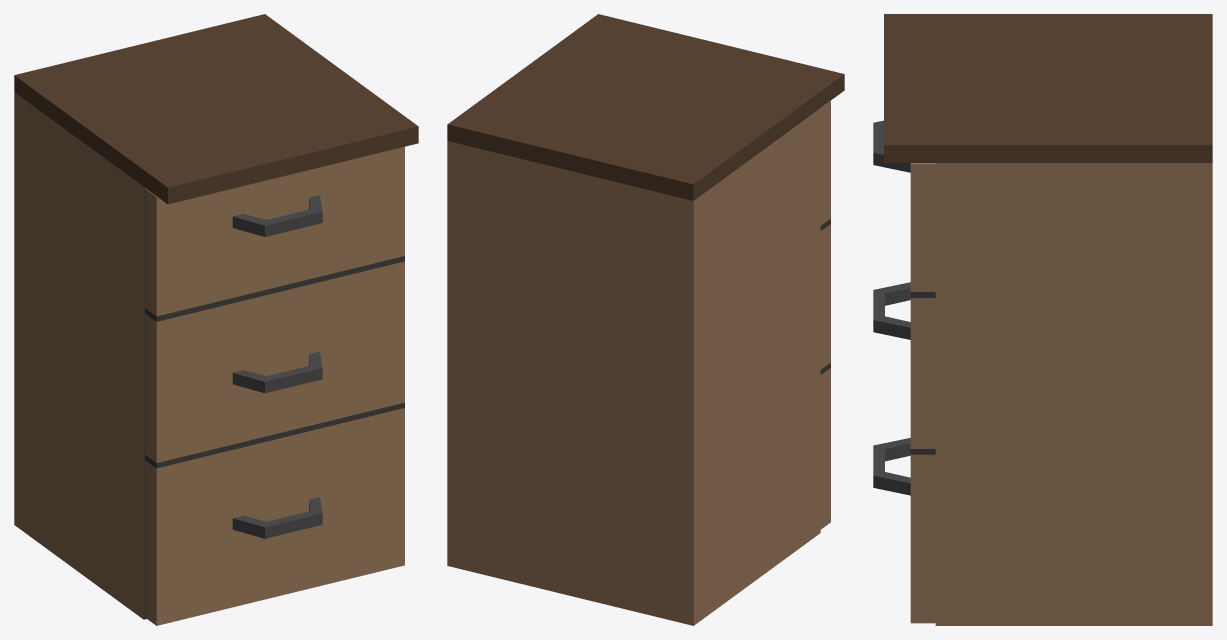
Rendered from Kitchen_Cabinet_2B.fbx.
3 views of the same model, side by side, from view 1: azimuth 30°, elevation 25°; view 2: azimuth 150°, elevation 25°; view 3: azimuth 270°, elevation 25° (orthographic). The views are drawn at different scales.
Visible parts, largest first — view 1: polySurface2169; view 2: polySurface2169; view 3: polySurface2169.
Part boxes in pixels (<box>): polySurface2169: <box>14,14,418,625</box>; polySurface2169: <box>447,14,844,625</box>; polySurface2169: <box>873,14,1212,625</box>.
Bounding box in the file's own units: 0.7792 × 1.34 × 0.8541.
1 material, 1 textured.
